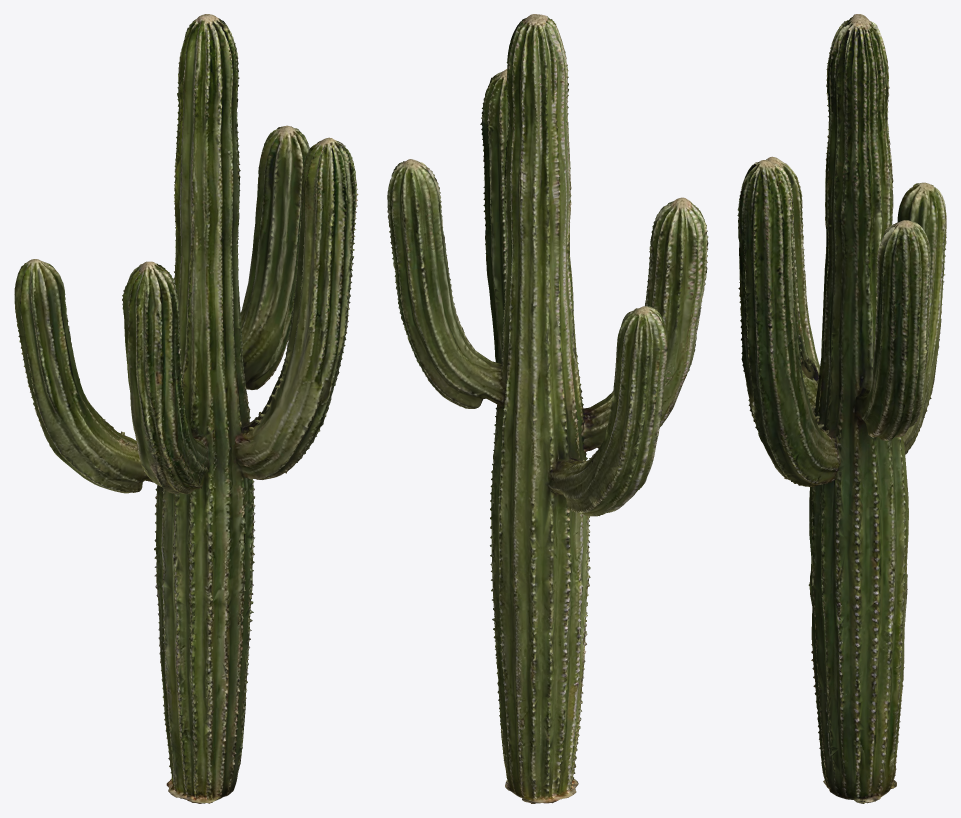
File: saguaro.glb
3 views of the same model, side by side, from view 1: azimuth 30°, elevation 25°; view 2: azimuth 150°, elevation 25°; view 3: azimuth 270°, elevation 25° (orthographic).
Visible parts, largest first — view 1: node_b97011ac-8719-4326-bdc8-0753f61e90fe; view 2: node_b97011ac-8719-4326-bdc8-0753f61e90fe; view 3: node_b97011ac-8719-4326-bdc8-0753f61e90fe.
Part boxes in pixels (x1=…): node_b97011ac-8719-4326-bdc8-0753f61e90fe: x1=14, y1=14, x2=358, y2=803; node_b97011ac-8719-4326-bdc8-0753f61e90fe: x1=387, y1=14, x2=708, y2=803; node_b97011ac-8719-4326-bdc8-0753f61e90fe: x1=737, y1=14, x2=946, y2=803.
Bounding box in the file's own units: 0.3754 × 0.9821 × 0.2407.
Materials: 1 (1 with a texture image).
